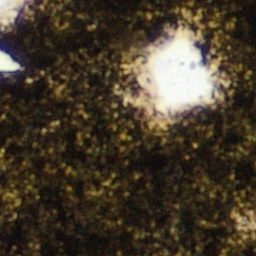cement_matrix: (0, 0, 255, 255), (123, 24, 225, 128)
gravel_crushed_stones: (124, 25, 224, 127), (0, 0, 28, 27), (0, 49, 17, 73), (239, 216, 255, 228)
